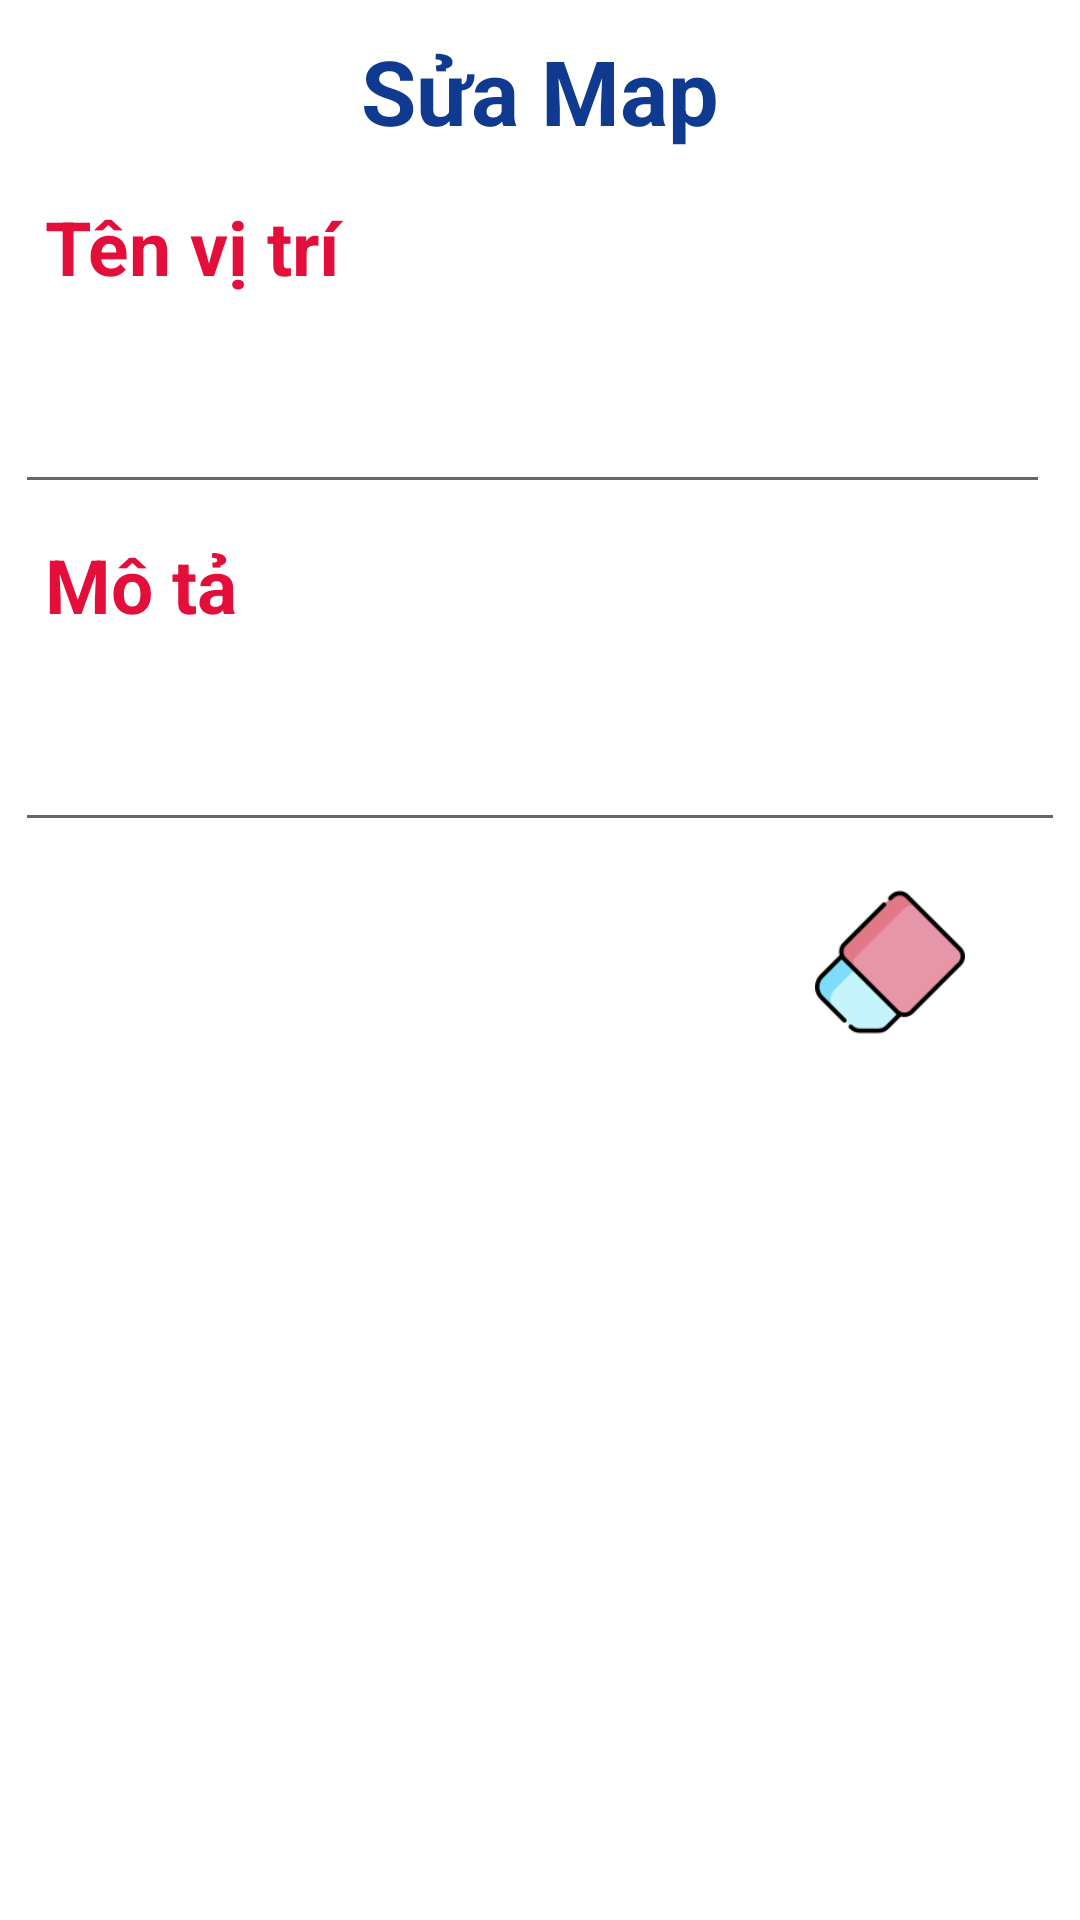

Named icons in this screenshot (1080w x 1920h) and their bounding boxes, bbox=[x1, y1, x2, y2]:
eraser: bbox=[815, 890, 965, 1034]
